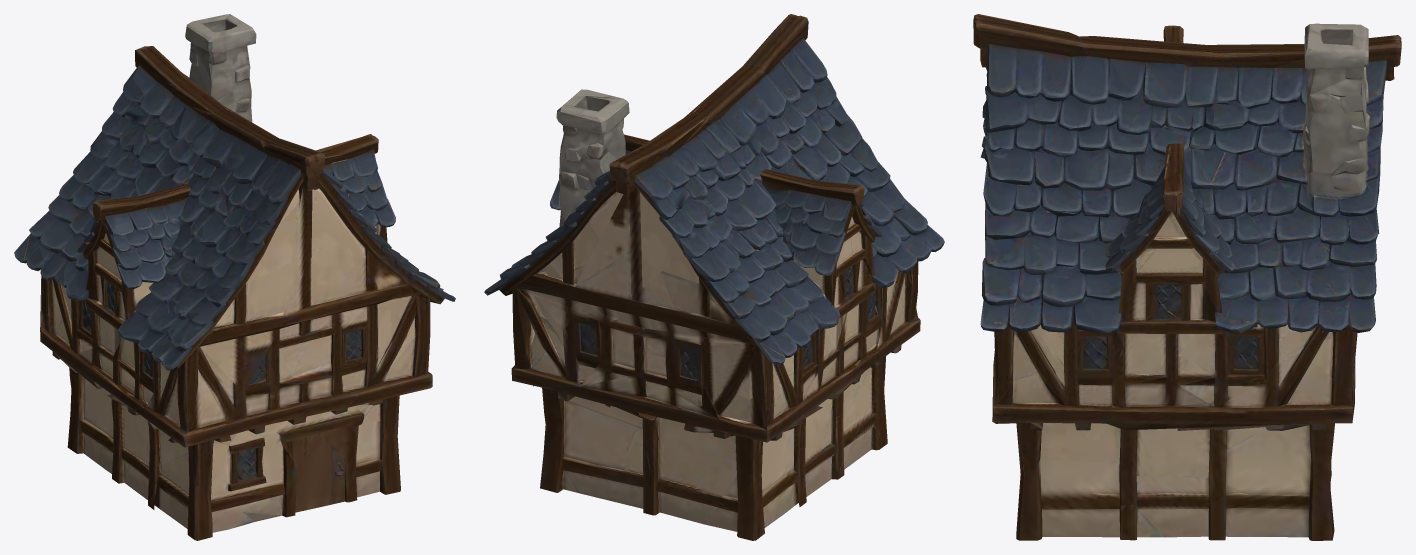
File: timber.glb
The picture shows the model from 3 angles, left to right: view 1: azimuth 30°, elevation 25°; view 2: azimuth 150°, elevation 25°; view 3: azimuth 270°, elevation 25°; orthographic projection. The views are drawn at different scales.
Parts seen in each view (by area): view 1: timber; view 2: timber; view 3: timber.
Part boxes in pixels (box(x1,y1,x2,y2)): timber: box(14, 14, 455, 540); timber: box(484, 14, 944, 540); timber: box(973, 14, 1401, 540).
Bounding box in the file's own units: 8.24 × 10.5 × 8.6.
Materials: 1 (1 with a texture image).
